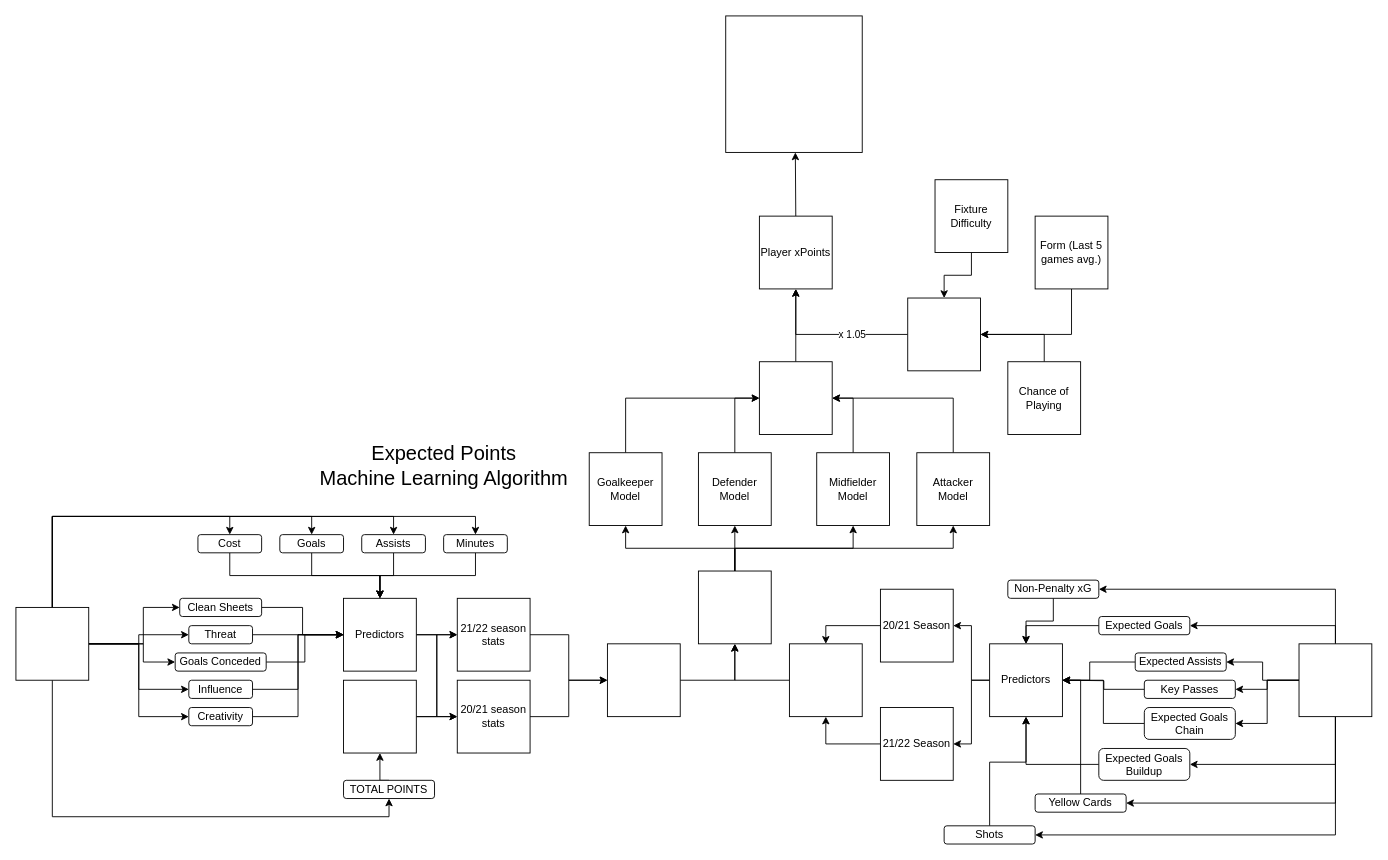
Some shapes in this 1388 by 860 pixel diagram are drawn without their labels. The shapes that lost their labels are listed below. From the top down, each one's centre as x and y in pixels, then its label:
(793,83): To be used in ranking players by their expected performance on the website
(944,334): Next Match Difficulty Coefficient
(795,398): Player xPoints value
(734,607): Master Data Model
(52,643): Official FPL API
(643,680): FPL Stats dataframe
(825,680): Underlying stats dataframe
(1335,680): Understat API
(379,716): Outcome Variable
